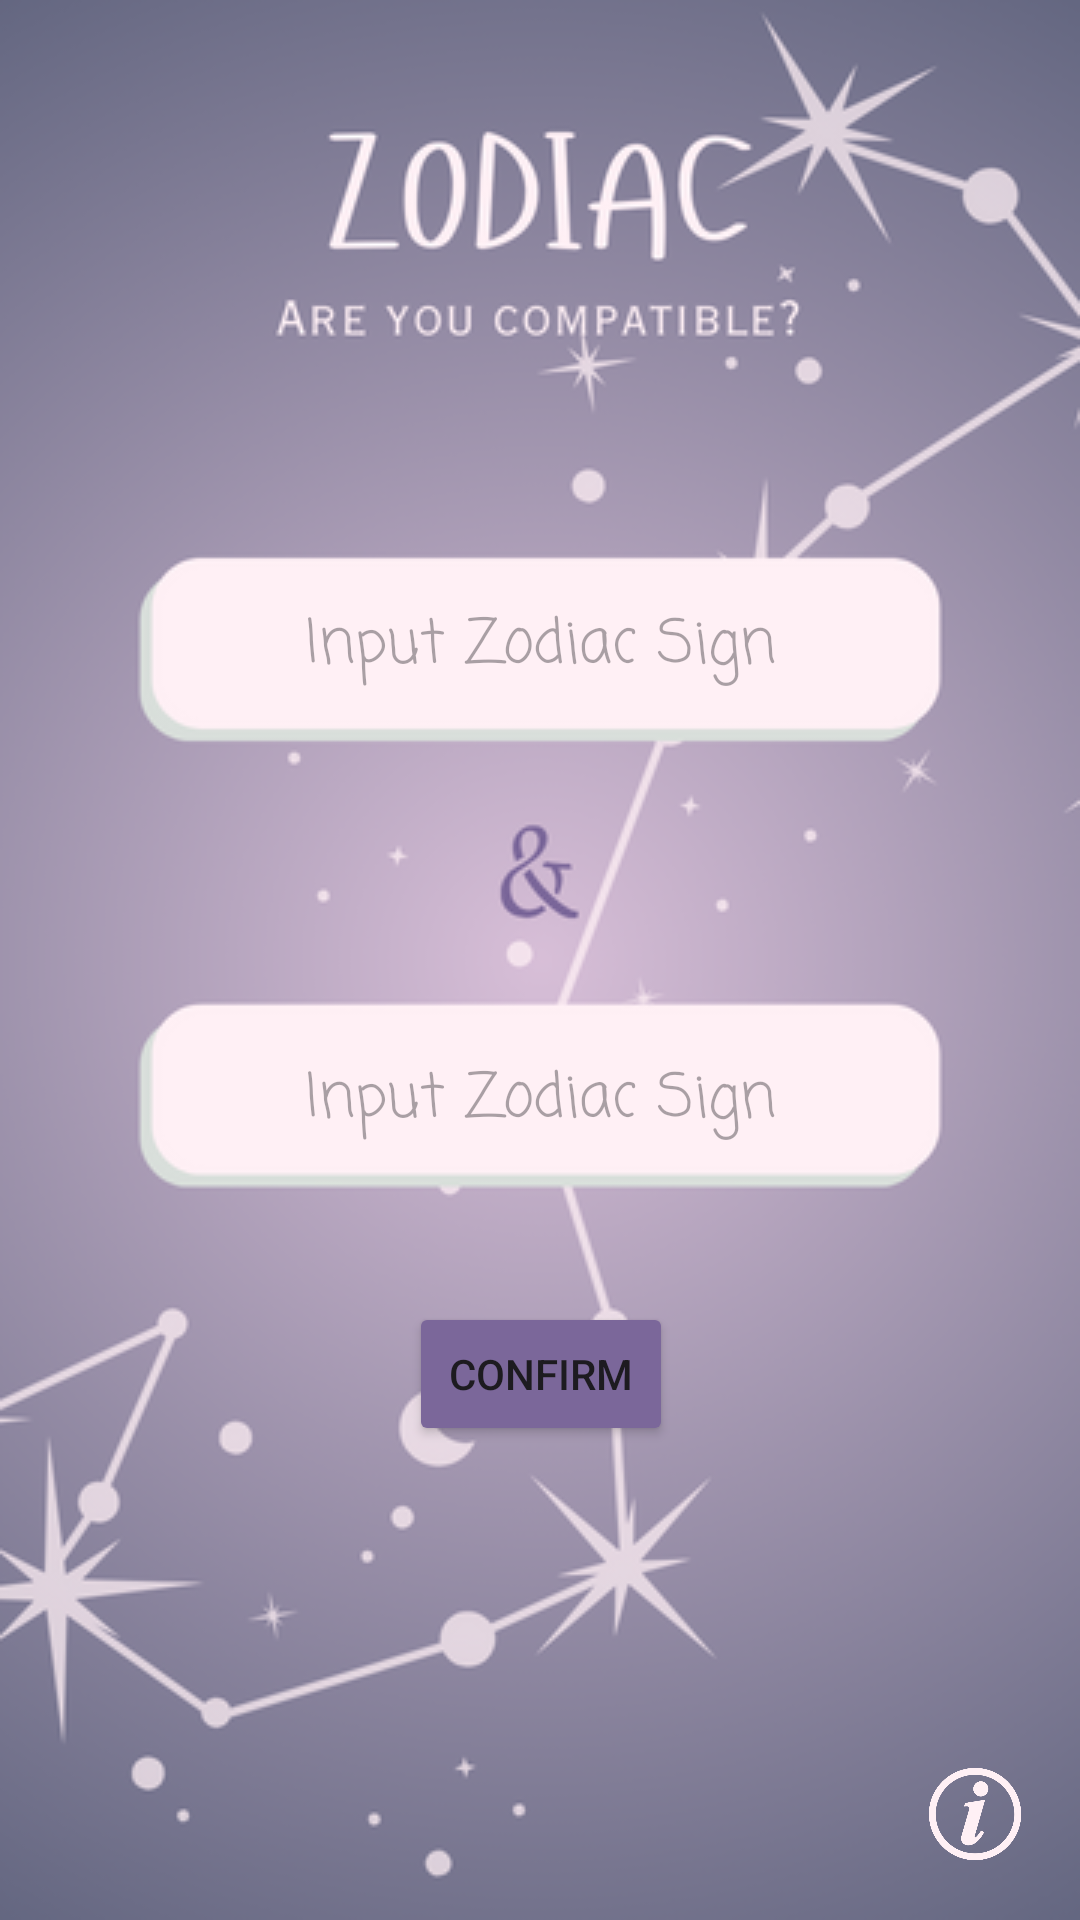

Icon click points for this 1080 × 1920 phone screenshot, format [x,y]:
info: [975,1814]
